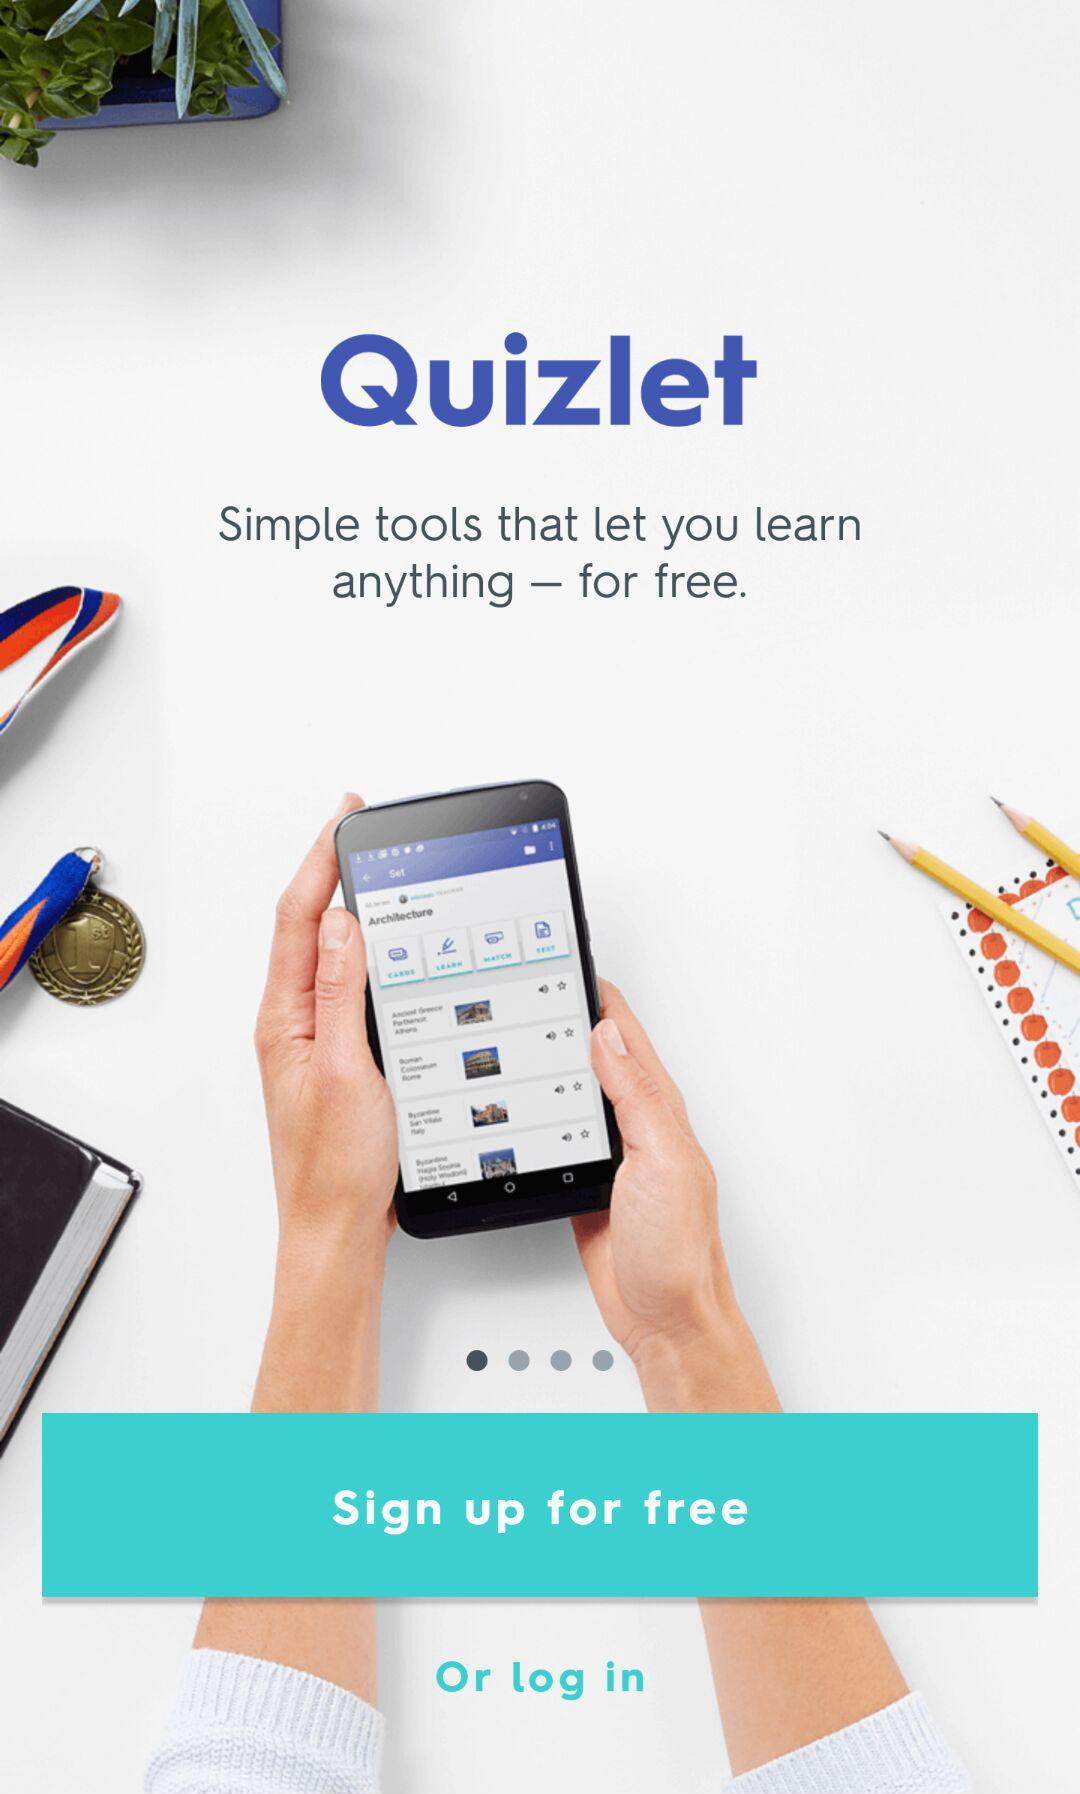BackgroundImage: (1, 1, 1080, 1794)
PageIndicator: (466, 1349, 615, 1372)
Text: (219, 506, 861, 609), (322, 331, 758, 428), (436, 1659, 644, 1700)
TextButton: (42, 1413, 1038, 1598)
